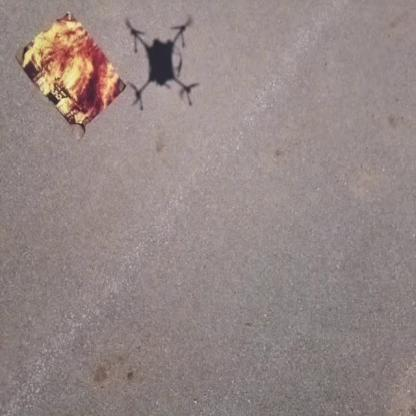fire-poster: (15, 10, 127, 140)
